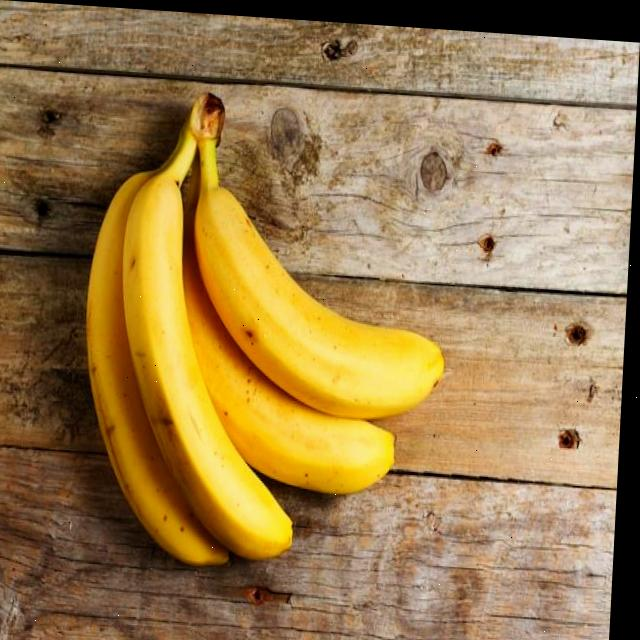banana: (68, 74, 466, 592)
